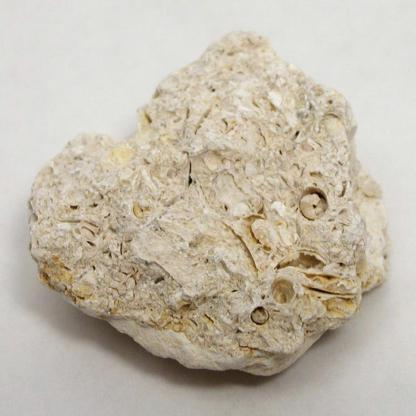Sedimentary_Limestone: (21, 29, 389, 382)
